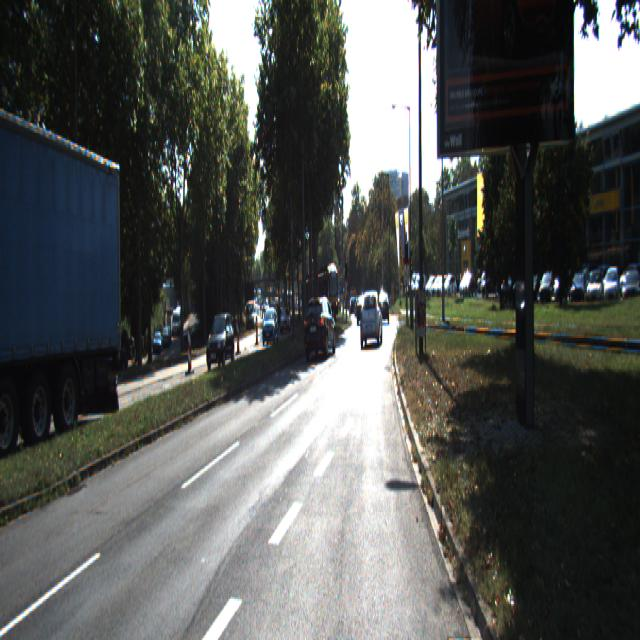Car: (302, 295, 336, 361), (206, 313, 235, 371), (360, 291, 382, 347), (263, 308, 279, 346), (357, 296, 367, 324)
DontCare: (404, 259, 516, 306), (532, 261, 639, 306), (146, 284, 200, 361), (244, 284, 261, 331), (280, 294, 292, 332), (384, 288, 392, 320), (347, 290, 354, 318)
Tram: (306, 268, 338, 322)
Truck: (0, 119, 128, 487)
